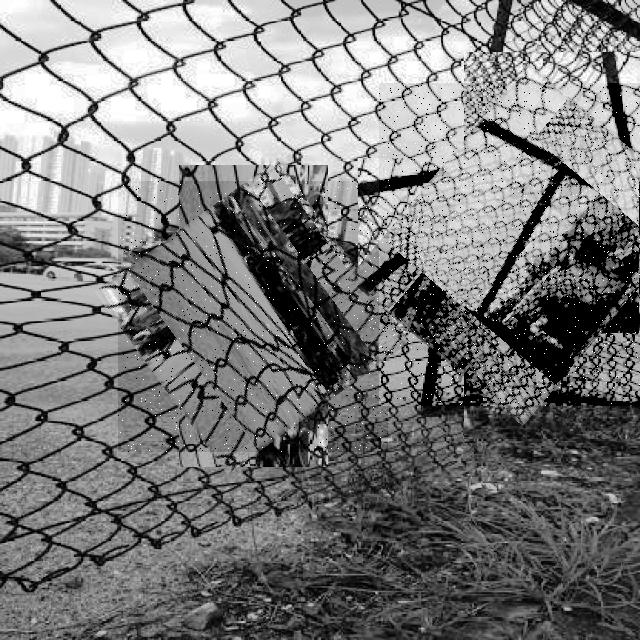anomaly-fence: (118, 181, 388, 452)
fences: (379, 83, 640, 406)
